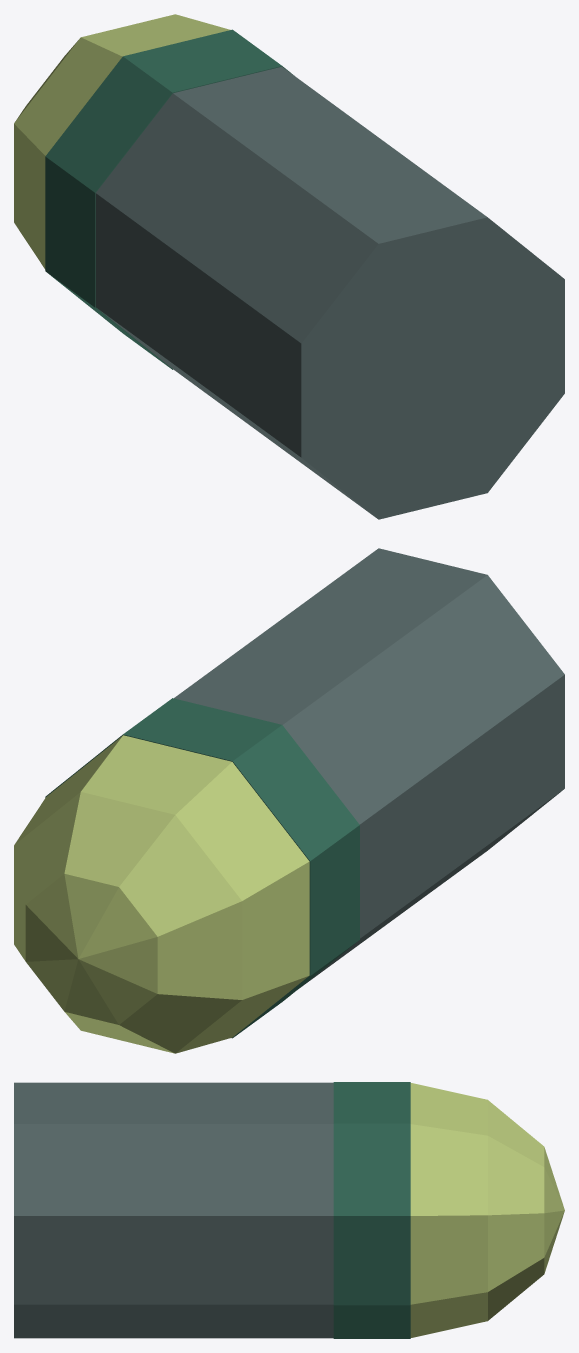
The model's file is ce_ammo2_grenade_tox_a.obj.
3 renders of one model, top to bottom at view 1: azimuth 30°, elevation 25°; view 2: azimuth 150°, elevation 25°; view 3: azimuth 270°, elevation 25°, orthographic. The views are drawn at different scales.
Visible parts, largest first — view 1: ce_ammo2_grenade_tox_a_0, ce_ammo2_grenade_tox_a_1, ce_ammo2_grenade_tox_a_2; view 2: ce_ammo2_grenade_tox_a_0, ce_ammo2_grenade_tox_a_3, ce_ammo2_grenade_tox_a_2, ce_ammo2_grenade_tox_a_1, ce_ammo2_grenade_tox_a_4; view 3: ce_ammo2_grenade_tox_a_0, ce_ammo2_grenade_tox_a_1, ce_ammo2_grenade_tox_a_2, ce_ammo2_grenade_tox_a_3, ce_ammo2_grenade_tox_a_4.
Boxes of the visible parts, x1=… form: ce_ammo2_grenade_tox_a_0: x1=95, y1=66, x2=564, y2=519; ce_ammo2_grenade_tox_a_1: x1=45, y1=29, x2=294, y2=369; ce_ammo2_grenade_tox_a_2: x1=14, y1=14, x2=230, y2=269; ce_ammo2_grenade_tox_a_0: x1=174, y1=548, x2=564, y2=987; ce_ammo2_grenade_tox_a_3: x1=14, y1=792, x2=242, y2=1053; ce_ammo2_grenade_tox_a_2: x1=14, y1=735, x2=309, y2=1053; ce_ammo2_grenade_tox_a_1: x1=45, y1=698, x2=359, y2=1038; ce_ammo2_grenade_tox_a_4: x1=25, y1=873, x2=157, y2=1024; ce_ammo2_grenade_tox_a_0: x1=14, y1=1082, x2=333, y2=1338; ce_ammo2_grenade_tox_a_1: x1=333, y1=1082, x2=410, y2=1338; ce_ammo2_grenade_tox_a_2: x1=410, y1=1083, x2=487, y2=1337; ce_ammo2_grenade_tox_a_3: x1=488, y1=1100, x2=544, y2=1320; ce_ammo2_grenade_tox_a_4: x1=544, y1=1147, x2=564, y2=1273.
Bounding box in the file's own units: 0.2414 × 0.2414 × 0.56.
